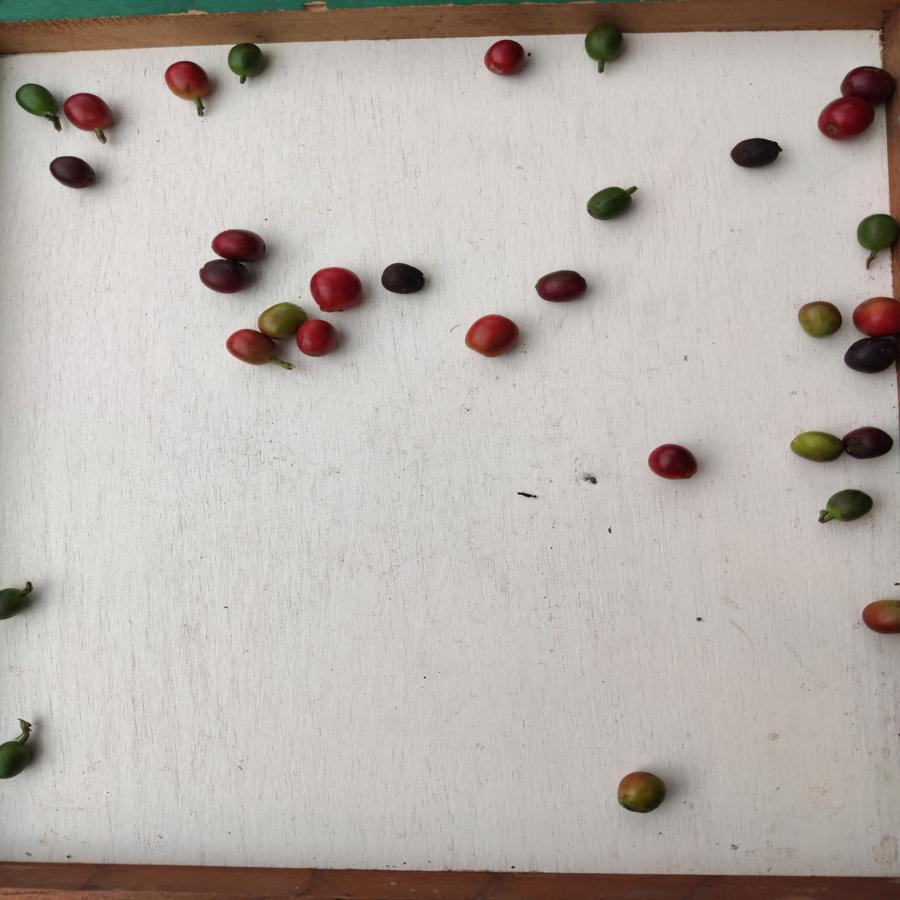Inmaduro: (824, 485, 876, 524), (855, 209, 898, 254), (15, 82, 58, 123), (581, 24, 624, 64), (586, 186, 631, 221), (1, 738, 33, 784), (227, 44, 265, 77), (1, 585, 31, 622)
Maduro: (310, 268, 365, 315), (466, 312, 519, 358), (816, 98, 875, 138), (61, 92, 116, 132), (164, 61, 214, 104), (648, 442, 697, 484), (851, 297, 900, 338), (480, 38, 527, 79), (297, 321, 338, 359)
Pinton: (617, 769, 667, 815), (788, 429, 843, 465), (798, 298, 844, 338), (861, 595, 900, 641), (228, 329, 275, 365), (257, 303, 298, 342)
Sobremaduro: (209, 227, 271, 262), (841, 63, 898, 101), (842, 338, 899, 375), (196, 258, 251, 295), (534, 269, 588, 305), (842, 425, 895, 461), (379, 259, 427, 298), (49, 155, 98, 192), (726, 137, 782, 169)
